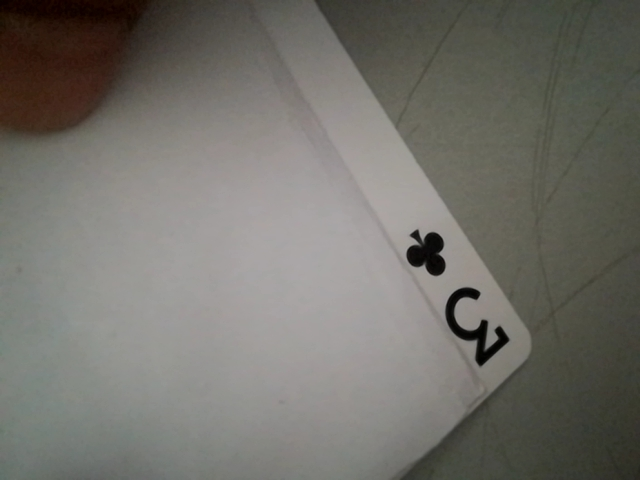mh 3: (395, 216, 524, 375)
